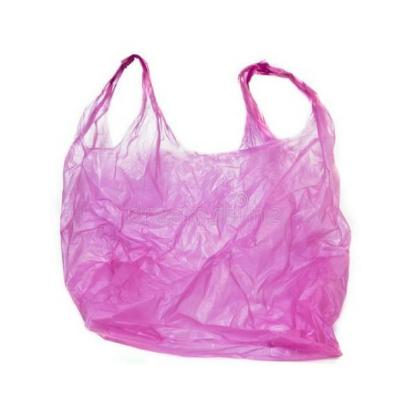Plastic Bag: (58, 54, 352, 364)
